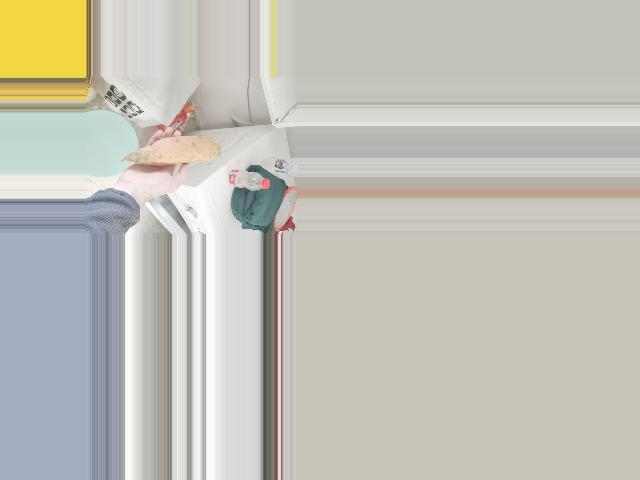sweet_potato: (126, 141, 212, 167)
